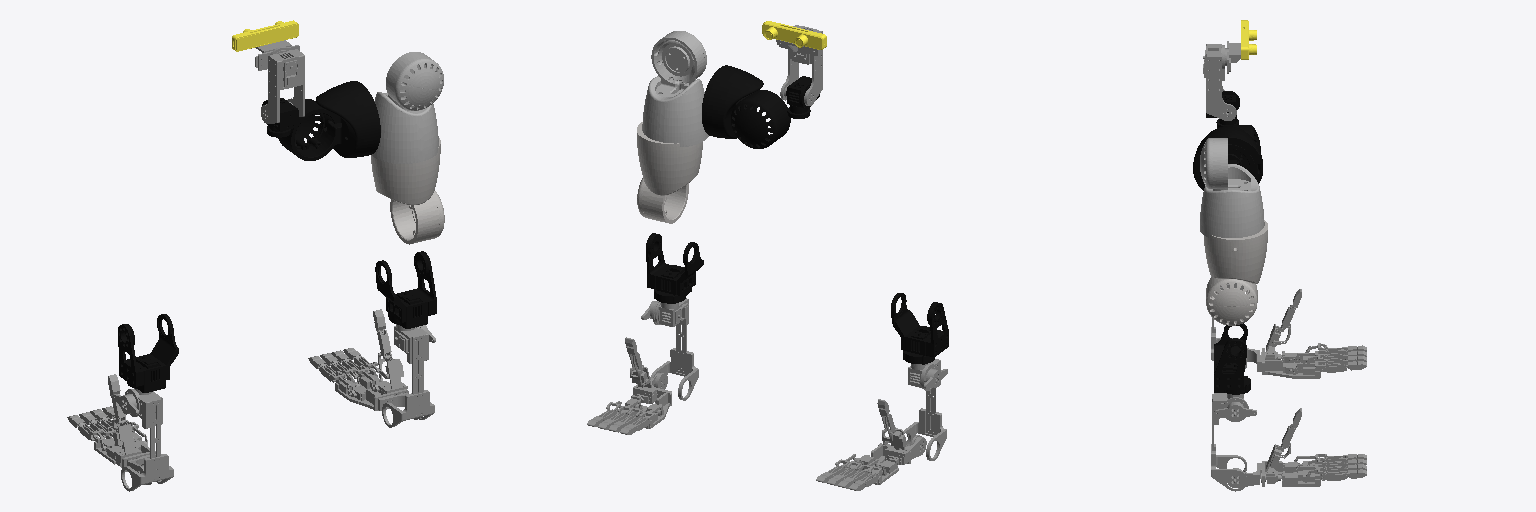
robot.urdf — elrik:
<robot name="elrik" version="1.0">
  <joint name="joint_head_pitch" type="revolute">
    <limit lower="-3.14000" upper="3.14000" effort="0.00000" velocity="0.00000"/>
    <origin rpy="-0.00000 1.57080 0.00000" xyz="0.00012 0.00000 0.03998"/>
    <parent link="link_head_yaw"/>
    <child link="link_head_pitch"/>
    <axis xyz="0.00000 0.00000 1.00000"/>
  </joint>
  <joint name="joint_head_roll" type="revolute">
    <limit lower="-3.14000" upper="3.14000" effort="0.00000" velocity="0.00000"/>
    <origin rpy="1.57080 -1.57080 0.00000" xyz="-0.10002 0.01200 0.00030"/>
    <parent link="link_head_pitch"/>
    <child link="link_head_roll"/>
    <axis xyz="0.00000 0.00000 1.00000"/>
  </joint>
  <joint name="joint_head_yaw" type="revolute">
    <limit lower="-3.14000" upper="3.14000" effort="0.00000" velocity="0.00000"/>
    <origin rpy="0.00000 0.00000 -3.14159" xyz="0.00012 0.00000 0.20400"/>
    <parent link="link_torso"/>
    <child link="link_head_yaw"/>
    <axis xyz="0.00000 0.00000 1.00000"/>
  </joint>
  <joint name="joint_left_arm_yaw" type="revolute">
    <limit lower="-3.14000" upper="3.14000" effort="0.00000" velocity="0.00000"/>
    <origin rpy="-1.57080 0.00000 3.14159" xyz="0.00020 -0.12745 0.01486"/>
    <parent link="link_left_shoulder_x"/>
    <child link="link_left_upper_arm"/>
    <axis xyz="0.00000 0.00000 -1.00000"/>
  </joint>
  <joint name="joint_left_elbow_pitch" type="revolute">
    <limit lower="-3.14000" upper="3.14000" effort="0.00000" velocity="0.00000"/>
    <origin rpy="3.14159 -1.57080 -3.14159" xyz="0.00011 0.00027 0.23600"/>
    <parent link="link_left_upper_arm"/>
    <child link="link_left_forearm"/>
    <axis xyz="0.00000 0.00000 -1.00000"/>
  </joint>
  <joint name="joint_left_forearm_yaw" type="revolute">
    <limit lower="-3.14000" upper="3.14000" effort="0.00000" velocity="0.00000"/>
    <origin rpy="-3.14159 -1.57080 0.00000" xyz="0.09363 -0.00002 0.00011"/>
    <parent link="link_left_forearm"/>
    <child link="link_left_wrist"/>
    <axis xyz="0.00000 0.00000 -1.00000"/>
  </joint>
  <joint name="joint_left_shoulder_pitch" type="revolute">
    <limit lower="-3.14000" upper="3.14000" effort="0.00000" velocity="0.00000"/>
    <origin rpy="-0.00000 1.04720 -3.14159" xyz="-0.16356 0.00077 0.19342"/>
    <parent link="link_torso"/>
    <child link="link_left_shoulder"/>
    <axis xyz="0.00000 0.00000 -1.00000"/>
  </joint>
  <joint name="joint_left_shoulder_roll" type="revolute">
    <limit lower="-3.14000" upper="3.14000" effort="0.00000" velocity="0.00000"/>
    <origin rpy="1.57080 -1.04720 -0.00000" xyz="-0.00011 0.00077 0.10785"/>
    <parent link="link_left_shoulder"/>
    <child link="link_left_shoulder_x"/>
    <axis xyz="0.00000 0.00000 1.00000"/>
  </joint>
  <joint name="joint_left_wrist_pitch" type="revolute">
    <limit lower="-3.14000" upper="3.14000" effort="0.00000" velocity="0.00000"/>
    <origin rpy="1.43744 -1.57080 1.70415" xyz="-0.00110 -0.00019 0.17400"/>
    <parent link="link_left_wrist"/>
    <child link="link_left_hand"/>
    <axis xyz="0.00000 0.00000 -1.00000"/>
  </joint>
  <joint name="joint_right_arm_yaw" type="revolute">
    <limit lower="-3.14000" upper="3.14000" effort="0.00000" velocity="0.00000"/>
    <origin rpy="1.57080 0.00000 0.00000" xyz="-0.00020 -0.12745 0.01486"/>
    <parent link="link_right_shoulder_x"/>
    <child link="link_right_upper_arm"/>
    <axis xyz="0.00000 0.00000 1.00000"/>
  </joint>
  <joint name="joint_right_elbow_pitch" type="revolute">
    <limit lower="-3.14000" upper="3.14000" effort="0.00000" velocity="0.00000"/>
    <origin rpy="1.79848 1.57080 -1.34311" xyz="0.00011 -0.00027 0.23600"/>
    <parent link="link_right_upper_arm"/>
    <child link="link_right_forearm"/>
    <axis xyz="0.00000 0.00000 1.00000"/>
  </joint>
  <joint name="joint_right_forearm_yaw" type="revolute">
    <limit lower="-3.14000" upper="3.14000" effort="0.00000" velocity="0.00000"/>
    <origin rpy="3.14159 1.57080 0.00000" xyz="-0.09363 -0.00002 0.00011"/>
    <parent link="link_right_forearm"/>
    <child link="link_right_wrist"/>
    <axis xyz="0.00000 0.00000 1.00000"/>
  </joint>
  <joint name="joint_right_shoulder_pitch" type="revolute">
    <limit lower="-3.14000" upper="3.14000" effort="0.00000" velocity="0.00000"/>
    <origin rpy="0.00000 0.00000 -3.14159" xyz="0.16356 0.00077 0.19342"/>
    <parent link="link_torso"/>
    <child link="link_right_shoulder"/>
    <axis xyz="-0.86603 0.00000 0.50000"/>
  </joint>
  <joint name="joint_right_shoulder_roll" type="revolute">
    <limit lower="-3.14000" upper="3.14000" effort="0.00000" velocity="0.00000"/>
    <origin rpy="1.57080 0.00000 -0.00000" xyz="-0.09335 0.00077 0.05402"/>
    <parent link="link_right_shoulder"/>
    <child link="link_right_shoulder_x"/>
    <axis xyz="0.00000 0.00000 -1.00000"/>
  </joint>
  <joint name="joint_right_wrist_pitch" type="revolute">
    <limit lower="-3.14000" upper="3.14000" effort="0.00000" velocity="0.00000"/>
    <origin rpy="-1.79848 1.57080 1.34311" xyz="0.00110 -0.00019 0.17400"/>
    <parent link="link_right_wrist"/>
    <child link="link_right_hand"/>
    <axis xyz="0.00000 0.00000 1.00000"/>
  </joint>
  <link name="link_head_pitch">
    <collision name="head_pitch_collision">
      <origin rpy="-0.00000 -1.57080 0.00000" xyz="-0.05327 0.01505 -0.00120"/>
      <geometry>
        <box size="0.05500 0.06310 0.13950"/>
      </geometry>
    </collision>
    <inertial>
      <inertia ixx="0.00039" ixy="0.00000" ixz="-0.00000" iyy="0.00037" iyz="0.00000" izz="0.00012"/>
      <origin rpy="0.00000 0.00000 0.00000" xyz="0.00000 0.00000 0.00000"/>
      <mass value="0.20000"/>
    </inertial>
    <visual name="head_pitch">
      <origin rpy="-0.00000 -1.57080 0.00000" xyz="0.00000 0.00000 0.00000"/>
      <material name="Opaque(160,160,160)"/>
      <geometry>
        <mesh filename="package://elrik_description/meshes/stl/head_pitch.stl" scale="1.00000 1.00000 1.00000"/>
      </geometry>
    </visual>
  </link>
  <link name="link_head_roll">
    <collision name="camera_collision">
      <origin rpy="-1.57080 0.00000 0.00000" xyz="0.00845 0.03060 0.05113"/>
      <geometry>
        <box size="0.12520 0.03016 0.02662"/>
      </geometry>
    </collision>
    <collision name="head_roll_collision">
      <origin rpy="-1.57080 0.00000 0.00000" xyz="0.00000 0.00035 0.02365"/>
      <geometry>
        <box size="0.08500 0.05150 0.03370"/>
      </geometry>
    </collision>
    <inertial>
      <inertia ixx="0.00006" ixy="0.00000" ixz="0.00000" iyy="0.00014" iyz="0.00000" izz="0.00016"/>
      <origin rpy="0.00000 0.00000 0.00000" xyz="0.00000 -0.00000 -0.00000"/>
      <mass value="0.20000"/>
    </inertial>
    <visual name="camera">
      <origin rpy="-1.57080 0.00000 0.00000" xyz="0.00620 0.03059 0.03605"/>
      <material name="Plastic - Texture - Random (Yellow)"/>
      <geometry>
        <mesh filename="package://elrik_description/meshes/stl/camera.stl" scale="1.00000 1.00000 1.00000"/>
      </geometry>
    </visual>
    <visual name="head_roll">
      <origin rpy="-1.57080 0.00000 0.00000" xyz="0.00000 -0.00000 -0.00000"/>
      <material name="Opaque(160,160,160)"/>
      <geometry>
        <mesh filename="package://elrik_description/meshes/stl/head_roll.stl" scale="1.00000 1.00000 1.00000"/>
      </geometry>
    </visual>
  </link>
  <link name="link_head_yaw">
    <collision name="head_yaw_collision">
      <origin rpy="0.00000 0.00000 0.00000" xyz="-0.00058 0.00850 0.03150"/>
      <geometry>
        <box size="0.04200 0.06300 0.06300"/>
      </geometry>
    </collision>
    <inertial>
      <inertia ixx="0.00013" ixy="0.00000" ixz="0.00000" iyy="0.00010" iyz="0.00000" izz="0.00010"/>
      <origin rpy="0.00000 0.00000 0.00000" xyz="-0.00000 0.00000 0.00000"/>
      <mass value="0.20000"/>
    </inertial>
    <visual name="head_yaw">
      <origin rpy="0.00000 0.00000 0.00000" xyz="-0.00000 0.00000 0.00000"/>
      <material name="Opaque(25,25,25)"/>
      <geometry>
        <mesh filename="package://elrik_description/meshes/stl/head_yaw.stl" scale="1.00000 1.00000 1.00000"/>
      </geometry>
    </visual>
  </link>
  <link name="link_left_forearm">
    <collision name="left_forearm_collision">
      <origin rpy="-0.00000 -1.57080 0.00000" xyz="0.03558 0.00583 -0.00393"/>
      <geometry>
        <box size="0.08489 0.06853 0.11616"/>
      </geometry>
    </collision>
    <inertial>
      <inertia ixx="0.00030" ixy="-0.00000" ixz="-0.00000" iyy="0.00034" iyz="-0.00000" izz="0.00020"/>
      <origin rpy="0.00000 0.00000 0.00000" xyz="-0.00000 0.00000 0.00000"/>
      <mass value="0.20000"/>
    </inertial>
    <visual name="left_forearm">
      <origin rpy="-0.00000 -1.57080 0.00000" xyz="-0.00000 0.00000 0.00000"/>
      <material name="Opaque(25,25,25)"/>
      <geometry>
        <mesh filename="package://elrik_description/meshes/stl/left_forearm.stl" scale="1.00000 1.00000 1.00000"/>
      </geometry>
    </visual>
  </link>
  <link name="link_left_hand">
    <collision name="left_hand_collision">
      <origin rpy="-1.57080 0.00000 0.00000" xyz="-0.00054 -0.11191 -0.03097"/>
      <geometry>
        <box size="0.05243 0.08957 0.26082"/>
      </geometry>
    </collision>
    <inertial>
      <inertia ixx="0.00127" ixy="0.00000" ixz="0.00000" iyy="0.00154" iyz="0.00000" izz="0.00054"/>
      <origin rpy="0.00000 0.00000 0.00000" xyz="0.00000 0.00000 -0.00000"/>
      <mass value="0.20000"/>
    </inertial>
    <visual name="left_hand">
      <origin rpy="-1.57080 -0.00000 0.00000" xyz="0.00000 -0.00000 -0.00000"/>
      <material name="Opaque(160,160,160)"/>
      <geometry>
        <mesh filename="package://elrik_description/meshes/stl/left_hand.stl" scale="1.00000 1.00000 1.00000"/>
      </geometry>
    </visual>
  </link>
  <link name="link_left_shoulder">
    <collision name="left_shoulder_collision">
      <origin rpy="0.00000 0.00000 1.57080" xyz="0.00517 0.00077 0.07398"/>
      <geometry>
        <cylinder radius="0.05019" length="0.12980"/>
      </geometry>
    </collision>
    <inertial>
      <inertia ixx="0.00068" ixy="0.00000" ixz="0.00000" iyy="0.00068" iyz="-0.00000" izz="0.00065"/>
      <origin rpy="0.00000 0.00000 0.00000" xyz="0.00000 -0.00000 0.00000"/>
      <mass value="0.20000"/>
    </inertial>
    <visual name="left_shoulder">
      <origin rpy="0.00000 -1.04720 -0.00000" xyz="0.00000 0.00000 0.00000"/>
      <material name="Opaque(25,25,25)"/>
      <geometry>
        <mesh filename="package://elrik_description/meshes/stl/left_shoulder.stl" scale="1.00000 1.00000 1.00000"/>
      </geometry>
    </visual>
  </link>
  <link name="link_left_shoulder_x">
    <collision name="left_shoulder_x_collision">
      <origin rpy="-1.57080 0.00000 0.00000" xyz="0.00020 -0.05428 0.00895"/>
      <geometry>
        <box size="0.06396 0.10018 0.17240"/>
      </geometry>
    </collision>
    <inertial>
      <inertia ixx="0.00066" ixy="0.00000" ixz="0.00000" iyy="0.00056" iyz="0.00000" izz="0.00024"/>
      <origin rpy="0.00000 0.00000 0.00000" xyz="0.00000 0.00000 -0.00000"/>
      <mass value="0.20000"/>
    </inertial>
    <visual name="left_shoulder_x">
      <origin rpy="-1.57080 0.00000 0.00000" xyz="0.00000 0.00000 -0.00000"/>
      <material name="Opaque(179,179,179)"/>
      <geometry>
        <mesh filename="package://elrik_description/meshes/stl/left_shoulder_x.stl" scale="1.00000 1.00000 1.00000"/>
      </geometry>
    </visual>
  </link>
  <link name="link_left_upper_arm">
    <collision name="left_upper_arm_collision">
      <origin rpy="3.14159 0.00000 3.14159" xyz="0.00473 0.00127 0.13299"/>
      <geometry>
        <box size="0.07946 0.06203 0.26602"/>
      </geometry>
    </collision>
    <inertial>
      <inertia ixx="0.00124" ixy="-0.00000" ixz="0.00000" iyy="0.00128" iyz="-0.00000" izz="0.00017"/>
      <origin rpy="0.00000 0.00000 0.00000" xyz="0.00000 0.00000 -0.00000"/>
      <mass value="0.20000"/>
    </inertial>
    <visual name="left_upper_arm">
      <origin rpy="3.14159 0.00000 3.14159" xyz="0.00000 0.00000 -0.00000"/>
      <material name="Opaque(191,189,187)"/>
      <geometry>
        <mesh filename="package://elrik_description/meshes/stl/left_upper_arm.stl" scale="1.00000 1.00000 1.00000"/>
      </geometry>
    </visual>
  </link>
  <link name="link_left_wrist">
    <collision name="left_wrist_collision">
      <origin rpy="3.14159 -0.00000 0.00000" xyz="0.00130 -0.00313 0.09773"/>
      <geometry>
        <box size="0.07085 0.08614 0.19550"/>
      </geometry>
    </collision>
    <inertial>
      <inertia ixx="0.00076" ixy="-0.00000" ixz="0.00000" iyy="0.00072" iyz="-0.00000" izz="0.00021"/>
      <origin rpy="0.00000 0.00000 0.00000" xyz="0.00000 0.00000 -0.00000"/>
      <mass value="0.20000"/>
    </inertial>
    <visual name="left_wrist">
      <origin rpy="3.14159 -0.00000 0.00000" xyz="0.00000 -0.00000 -0.00000"/>
      <material name="Opaque(160,160,160)"/>
      <geometry>
        <mesh filename="package://elrik_description/meshes/stl/left_wrist.stl" scale="1.00000 1.00000 1.00000"/>
      </geometry>
    </visual>
  </link>
  <link name="link_right_forearm">
    <collision name="right_forearm_collision">
      <origin rpy="-0.00000 1.57080 0.00000" xyz="-0.03558 0.00583 -0.00393"/>
      <geometry>
        <box size="0.08489 0.06853 0.11616"/>
      </geometry>
    </collision>
    <inertial>
      <inertia ixx="0.00030" ixy="0.00000" ixz="0.00000" iyy="0.00034" iyz="0.00000" izz="0.00020"/>
      <origin rpy="0.00000 0.00000 0.00000" xyz="-0.00000 -0.00000 -0.00000"/>
      <mass value="0.20000"/>
    </inertial>
    <visual name="right_forearm">
      <origin rpy="-0.00000 1.57080 0.00000" xyz="0.00000 -0.00000 -0.00000"/>
      <material name="Opaque(25,25,25)"/>
      <geometry>
        <mesh filename="package://elrik_description/meshes/stl/right_forearm.stl" scale="1.00000 1.00000 1.00000"/>
      </geometry>
    </visual>
  </link>
  <link name="link_right_hand">
    <collision name="right_hand_collision">
      <origin rpy="-1.57080 -0.00000 0.00000" xyz="0.00016 -0.11193 -0.00807"/>
      <geometry>
        <box size="0.04897 0.08957 0.26082"/>
      </geometry>
    </collision>
    <inertial>
      <inertia ixx="0.00127" ixy="0.00000" ixz="-0.00000" iyy="0.00154" iyz="-0.00000" izz="0.00054"/>
      <origin rpy="0.00000 0.00000 0.00000" xyz="0.00009 -0.00002 0.02290"/>
      <mass value="0.20000"/>
    </inertial>
    <visual name="right_hand">
      <origin rpy="-1.57080 0.00000 0.00000" xyz="0.00009 -0.00002 0.02290"/>
      <material name="Opaque(160,160,160)"/>
      <geometry>
        <mesh filename="package://elrik_description/meshes/stl/right_hand.stl" scale="1.00000 1.00000 1.00000"/>
      </geometry>
    </visual>
  </link>
  <link name="link_right_shoulder">
    <collision name="right_shoulder_collision">
      <origin rpy="2.08657 -0.01930 1.47639" xyz="-0.06662 0.00167 0.03240"/>
      <geometry>
        <cylinder radius="0.04602" length="0.13522"/>
      </geometry>
    </collision>
    <inertial>
      <inertia ixx="0.00068" ixy="0.00000" ixz="-0.00000" iyy="0.00068" iyz="0.00000" izz="0.00065"/>
      <origin rpy="0.00000 0.00000 0.00000" xyz="-0.00000 0.00000 0.00000"/>
      <mass value="0.20000"/>
    </inertial>
    <visual name="right_shoulder">
      <origin rpy="-0.00000 0.00000 0.00000" xyz="-0.00000 0.00000 0.00000"/>
      <material name="Opaque(25,25,25)"/>
      <geometry>
        <mesh filename="package://elrik_description/meshes/stl/right_shoulder.stl" scale="1.00000 1.00000 1.00000"/>
      </geometry>
    </visual>
  </link>
  <link name="link_right_shoulder_x">
    <collision name="right_shoulder_x_collision">
      <origin rpy="-1.57080 -0.00000 0.00000" xyz="-0.00020 -0.05428 0.00895"/>
      <geometry>
        <box size="0.06396 0.10018 0.17240"/>
      </geometry>
    </collision>
    <inertial>
      <inertia ixx="0.00066" ixy="0.00000" ixz="0.00000" iyy="0.00056" iyz="-0.00000" izz="0.00024"/>
      <origin rpy="0.00000 0.00000 0.00000" xyz="0.00000 0.00000 -0.00000"/>
      <mass value="0.20000"/>
    </inertial>
    <visual name="right_shoulder_x">
      <origin rpy="-1.57080 0.00000 -0.00000" xyz="0.00000 0.00000 -0.00000"/>
      <material name="Opaque(179,179,179)"/>
      <geometry>
        <mesh filename="package://elrik_description/meshes/stl/right_shoulder_x.stl" scale="1.00000 1.00000 1.00000"/>
      </geometry>
    </visual>
  </link>
  <link name="link_right_upper_arm">
    <collision name="right_upper_arm_collision">
      <origin rpy="3.14159 -0.00000 0.00000" xyz="0.00473 -0.00127 0.13299"/>
      <geometry>
        <box size="0.07946 0.06203 0.26602"/>
      </geometry>
    </collision>
    <inertial>
      <inertia ixx="0.00124" ixy="-0.00000" ixz="-0.00000" iyy="0.00128" iyz="-0.00000" izz="0.00017"/>
      <origin rpy="0.00000 0.00000 0.00000" xyz="0.00000 0.00000 -0.00000"/>
      <mass value="0.20000"/>
    </inertial>
    <visual name="right_upper_arm">
      <origin rpy="3.14159 0.00000 0.00000" xyz="0.00000 0.00000 -0.00000"/>
      <material name="Opaque(191,189,187)"/>
      <geometry>
        <mesh filename="package://elrik_description/meshes/stl/right_upper_arm.stl" scale="1.00000 1.00000 1.00000"/>
      </geometry>
    </visual>
  </link>
  <link name="link_right_wrist">
    <collision name="right_wrist_collision">
      <origin rpy="-3.14159 -0.00000 -0.00000" xyz="-0.00130 -0.00313 0.09773"/>
      <geometry>
        <box size="0.07085 0.08614 0.19550"/>
      </geometry>
    </collision>
    <inertial>
      <inertia ixx="0.00076" ixy="-0.00000" ixz="-0.00000" iyy="0.00072" iyz="0.00000" izz="0.00021"/>
      <origin rpy="0.00000 0.00000 0.00000" xyz="0.00000 0.00000 0.00000"/>
      <mass value="0.20000"/>
    </inertial>
    <visual name="right_wrist">
      <origin rpy="-3.14159 -0.00000 -0.00000" xyz="0.00000 0.00000 0.00000"/>
      <material name="Opaque(160,160,160)"/>
      <geometry>
        <mesh filename="package://elrik_description/meshes/stl/right_wrist.stl" scale="1.00000 1.00000 1.00000"/>
      </geometry>
    </visual>
  </link>
  <link name="link_torso">
    <collision name="torso_collision">
      <origin rpy="0.00000 0.00000 -3.14159" xyz="-0.00000 -0.00040 0.10725"/>
      <geometry>
        <box size="0.38548 0.07402 0.25694"/>
      </geometry>
    </collision>
    <inertial>
      <inertia ixx="0.06277" ixy="0.00000" ixz="0.00000" iyy="0.06683" iyz="0.00000" izz="0.04157"/>
      <origin rpy="0.00000 0.00000 0.00000" xyz="-0.00000 0.00000 0.00000"/>
      <mass value="0.20000"/>
    </inertial>
    <visual name="torso">
      <origin rpy="0.00000 0.00000 -3.14159" xyz="-0.00000 0.00000 0.00000"/>
      <material name="ABS (White)"/>
      <geometry>
        <mesh filename="package://elrik_description/meshes/stl/torso.stl" scale="1.00000 1.00000 1.00000"/>
      </geometry>
    </visual>
  </link>
  <material name="ABS (White)">
    <color rgba="0.96471 0.96471 0.95294 1.00000"/>
  </material>
  <material name="Opaque(160,160,160)">
    <color rgba="0.62745 0.62745 0.62745 1.00000"/>
  </material>
  <material name="Opaque(179,179,179)">
    <color rgba="0.70196 0.70196 0.70196 1.00000"/>
  </material>
  <material name="Opaque(191,189,187)">
    <color rgba="0.74902 0.74118 0.73333 1.00000"/>
  </material>
  <material name="Opaque(25,25,25)">
    <color rgba="0.09804 0.09804 0.09804 1.00000"/>
  </material>
  <material name="Plastic - Texture - Random (Yellow)">
    <color rgba="1.00000 0.95294 0.31373 1.00000"/>
  </material>
</robot>

--- Render facts (derived) ---
The picture shows the robot from 3 angles, left to right: view 1: azimuth 30°, elevation 25°; view 2: azimuth 150°, elevation 25°; view 3: azimuth 270°, elevation 25°; orthographic projection.
Model elrik with 16 links and 15 joints (15 revolute), rooted at link_torso, posed all joints at 0.
Links seen in each view (by area): view 1: link_right_shoulder_x, link_right_shoulder, link_right_upper_arm, link_right_hand, link_left_hand, link_left_forearm, link_left_wrist, link_right_forearm, link_right_wrist, link_head_pitch, link_head_roll, link_head_yaw; view 2: link_right_shoulder_x, link_right_shoulder, link_right_upper_arm, link_left_hand, link_right_hand, link_left_forearm, link_right_forearm, link_right_wrist, link_left_wrist, link_head_roll, link_head_pitch, link_head_yaw; view 3: link_right_shoulder_x, link_right_upper_arm, link_right_hand, link_left_hand, link_right_forearm, link_right_shoulder, link_right_wrist, link_head_pitch, link_head_roll.
Link boxes in pixels (box(x1,y1,x2,y2)): link_right_shoulder_x: box(372, 52, 443, 163); link_right_shoulder: box(278, 81, 380, 160); link_right_upper_arm: box(371, 138, 444, 244); link_right_hand: box(308, 309, 420, 419); link_left_hand: box(67, 374, 155, 484); link_left_forearm: box(118, 314, 178, 392); link_left_wrist: box(113, 388, 173, 491); link_right_forearm: box(375, 251, 436, 328); link_right_wrist: box(382, 324, 435, 427); link_head_pitch: box(261, 47, 304, 123); link_head_roll: box(232, 20, 299, 70); link_head_yaw: box(262, 98, 298, 137); link_right_shoulder_x: box(642, 31, 708, 146); link_right_shoulder: box(702, 65, 790, 148); link_right_upper_arm: box(637, 122, 702, 223); link_left_hand: box(816, 399, 926, 490); link_right_hand: box(587, 337, 671, 434); link_left_forearm: box(891, 293, 948, 364); link_right_forearm: box(646, 233, 703, 303); link_right_wrist: box(641, 298, 698, 400); link_left_wrist: box(903, 359, 947, 460); link_head_roll: box(762, 21, 826, 55); link_head_pitch: box(780, 25, 822, 105); link_head_yaw: box(786, 76, 819, 118); link_right_shoulder_x: box(1200, 138, 1264, 237); link_right_upper_arm: box(1204, 220, 1267, 325); link_right_hand: box(1226, 408, 1366, 487); link_left_hand: box(1247, 289, 1366, 378); link_right_forearm: box(1214, 323, 1250, 394); link_right_shoulder: box(1193, 125, 1262, 190); link_right_wrist: box(1211, 393, 1256, 491); link_head_pitch: box(1203, 44, 1236, 120); link_head_roll: box(1225, 20, 1256, 73).
Size in the robot's own frame: 0.6126 by 0.321 by 0.793 metres.
Meshes: 17 distinct files referenced, 13 mesh visuals loaded (13 binary STL); not drawn: 4 (reference not matched to a file when rendering).
